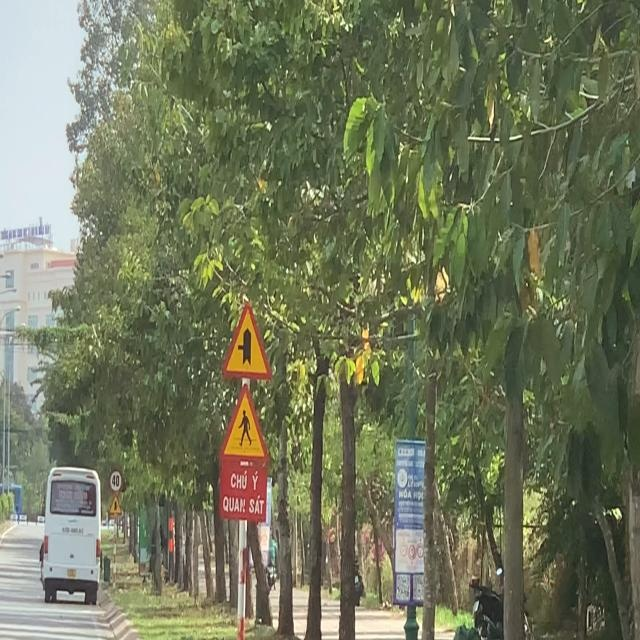bien_nguy_hiem: (222, 295, 276, 380), (220, 380, 270, 462)
